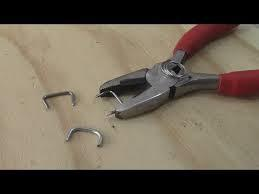pliers: (98, 22, 258, 119)
